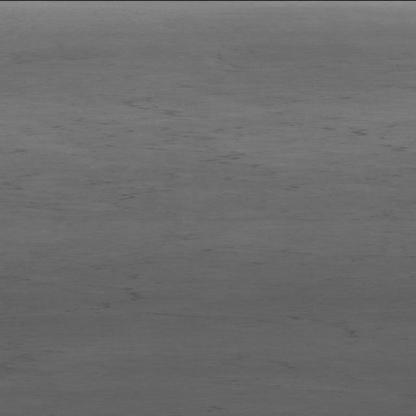silk_spot: (90, 114, 304, 205)
